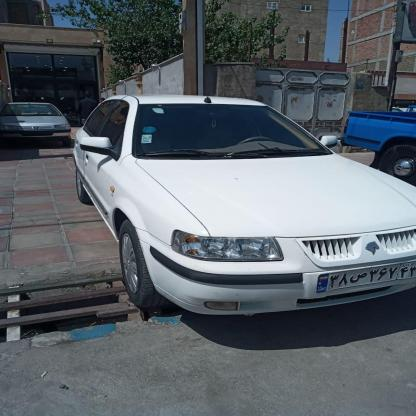Car: (68, 91, 416, 331), (326, 105, 416, 187), (0, 98, 76, 152)
